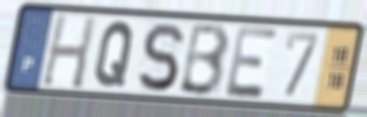7: (282, 30, 321, 101)
B: (176, 21, 233, 99)
E: (223, 24, 281, 101)
H: (39, 11, 99, 92)
Q: (92, 19, 137, 89)
S: (135, 20, 185, 94)
